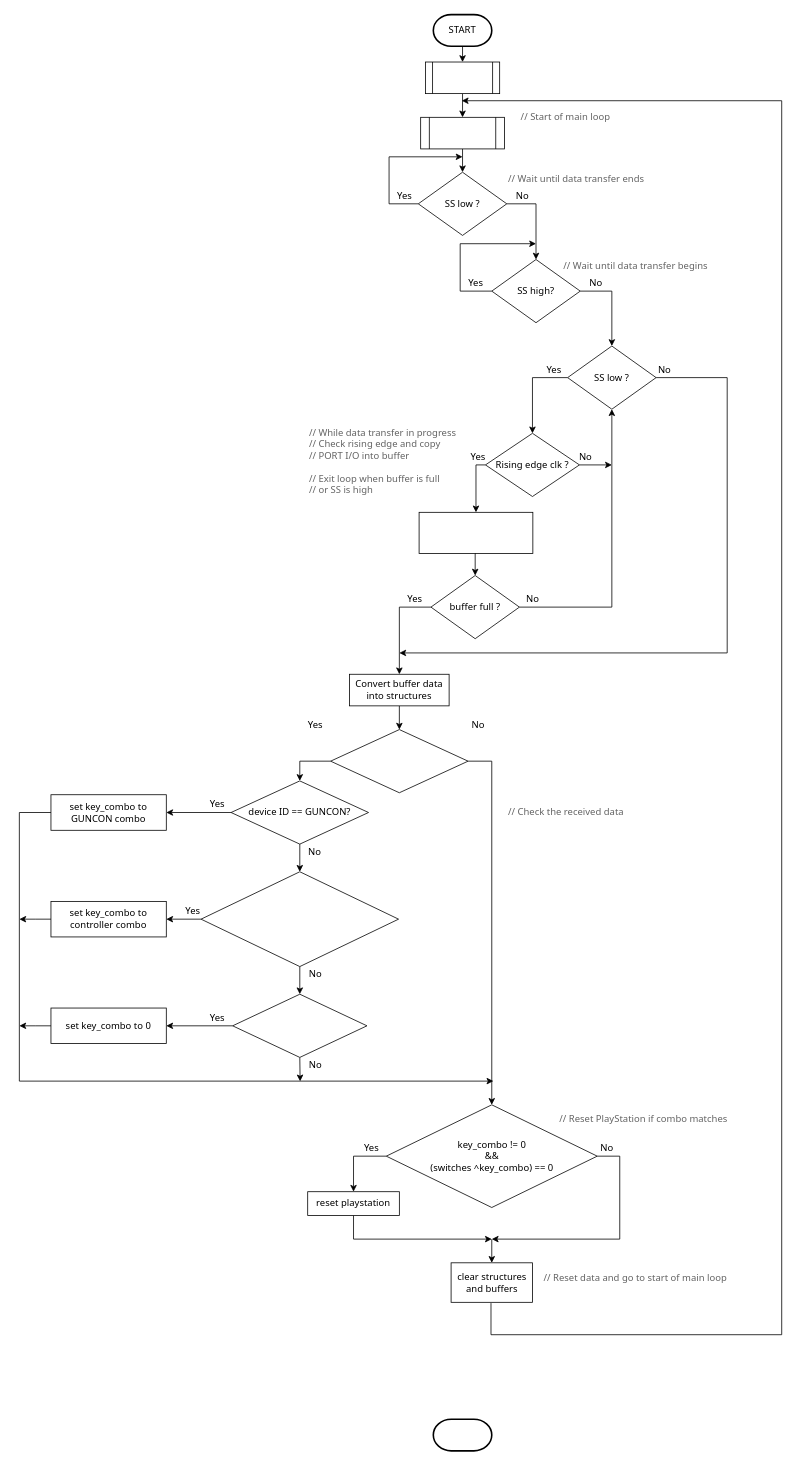
This 802x1465 diagram has some shape labels left out. The shapes that lost their labels are listed below. From the top down, each one's centre as x and y in pixels, then its label:
At (x=462, y=77): "SETUP".
At (x=462, y=133): "delay 50ms".
At (x=475, y=532): "Copy I/O in buffer + increase buffer index".
At (x=399, y=761): "device ID == controller ?".
At (x=299, y=919): "device ID == Analog / Digital controller?".
At (x=299, y=1025): "device ID unknown".
At (x=462, y=1434): "END".
